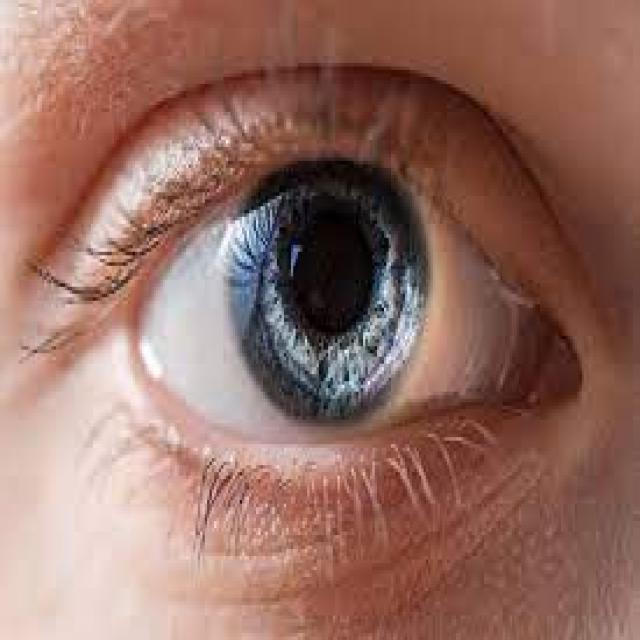Eyes-iris: (222, 145, 433, 431)
